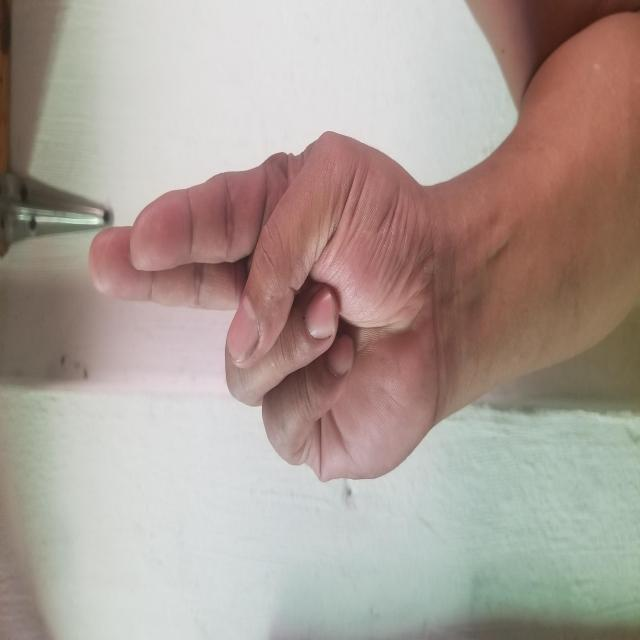R: (157, 86, 513, 434)
